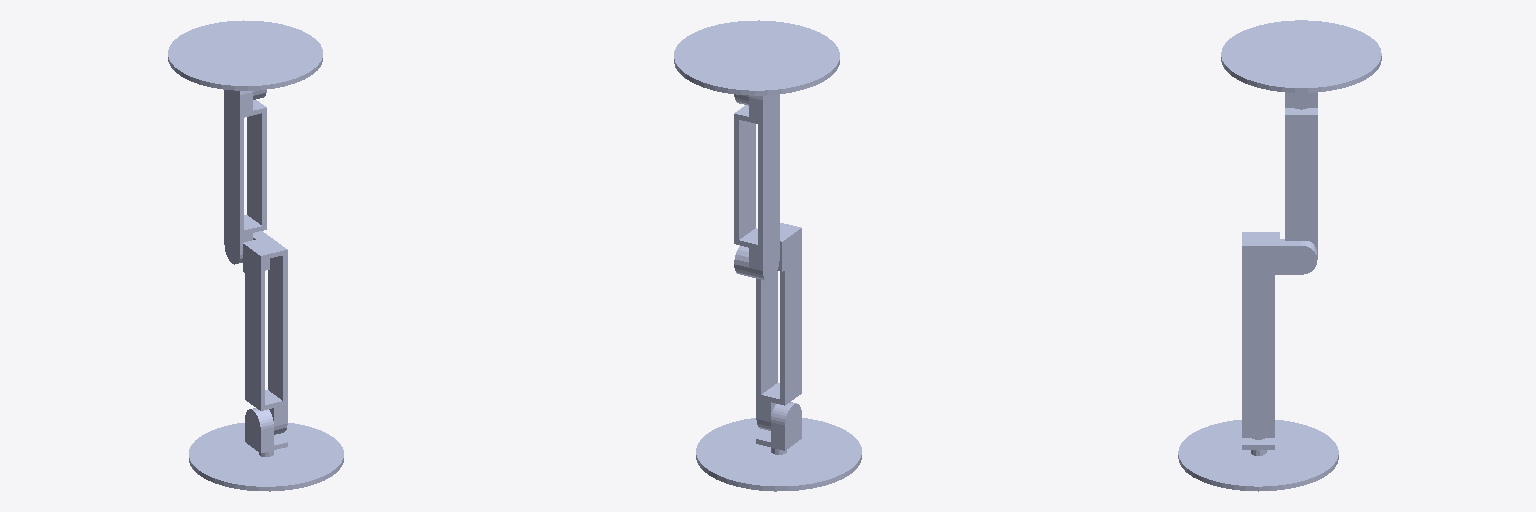
The robot description file, URDF, robot "Severus":
<?xml version="1.0" encoding="utf-8"?>
<!-- This URDF was automatically created by SolidWorks to URDF Exporter! Originally created by [author] ([email redacted]) 
     Commit Version: 1.5.1-0-g916b5db  Build Version: 1.5.7152.31018
     For more information, please see http://wiki.ros.org/sw_urdf_exporter -->
<robot
  name="Severus">
  <link
    name="base_link">
    <inertial>
      <origin
        xyz="0 0.00254950495049505 6.93889390390723E-18"
        rpy="0 0 0" />
      <mass
        value="0.089240866316035" />
      <inertia
        ixx="0.000124472658151784"
        ixy="0"
        ixz="0"
        iyy="0.000248529738126238"
        iyz="-4.13590306276514E-22"
        izz="0.000124472658151784" />
    </inertial>
    <visual>
      <origin
        xyz="0 0 0"
        rpy="0 0 0" />
      <geometry>
        <mesh
          filename="package://Severus/meshes/base_link.STL" />
      </geometry>
      <material
        name="">
        <color
          rgba="0.792156862745098 0.819607843137255 0.933333333333333 1" />
      </material>
    </visual>
    <collision>
      <origin
        xyz="0 0 0"
        rpy="0 0 0" />
      <geometry>
        <mesh
          filename="package://Severus/meshes/base_link.STL" />
      </geometry>
    </collision>
  </link>
  <link
    name="Link_11">
    <inertial>
      <origin
        xyz="-0.00544885570783534 0.0207646350841081 -8.06800064006279E-19"
        rpy="0 0 0" />
      <mass
        value="0.0196850105367549" />
      <inertia
        ixx="4.09990655058184E-06"
        ixy="5.68717463137068E-07"
        ixz="3.82004647330432E-24"
        iyy="2.16121564980124E-06"
        iyz="-3.37216020632057E-22"
        izz="3.6148599812894E-06" />
    </inertial>
    <visual>
      <origin
        xyz="0 0 0"
        rpy="0 0 0" />
      <geometry>
        <mesh
          filename="package://Severus/meshes/Link_11.STL" />
      </geometry>
      <material
        name="">
        <color
          rgba="0.792156862745098 0.819607843137255 0.933333333333333 1" />
      </material>
    </visual>
    <collision>
      <origin
        xyz="0 0 0"
        rpy="0 0 0" />
      <geometry>
        <mesh
          filename="package://Severus/meshes/Link_11.STL" />
      </geometry>
    </collision>
  </link>
  <joint
    name="Joint_11"
    type="continuous">
    <origin
      xyz="0 0 0.01"
      rpy="1.5708 0 0" />
    <parent
      link="base_link" />
    <child
      link="Link_11" />
    <axis
      xyz="0 1 0" />
  </joint>
  <link
    name="Link_12">
    <inertial>
      <origin
        xyz="0.00235471782377051 0.102740932943639 -0.00686923988626232"
        rpy="0 0 0" />
      <mass
        value="0.0911028752058656" />
      <inertia
        ixx="0.000411099958915835"
        ixy="3.38393768266908E-06"
        ixz="2.39495619668546E-06"
        iyy="3.25991345832866E-05"
        iyz="4.20131038837999E-05"
        izz="0.00039869764677922" />
    </inertial>
    <visual>
      <origin
        xyz="0 0 0"
        rpy="0 0 0" />
      <geometry>
        <mesh
          filename="package://Severus/meshes/Link_12.STL" />
      </geometry>
      <material
        name="">
        <color
          rgba="0.792156862745098 0.819607843137255 0.933333333333333 1" />
      </material>
    </visual>
    <collision>
      <origin
        xyz="0 0 0"
        rpy="0 0 0" />
      <geometry>
        <mesh
          filename="package://Severus/meshes/Link_12.STL" />
      </geometry>
    </collision>
  </link>
  <joint
    name="Joint_12"
    type="continuous">
    <origin
      xyz="0 0.03 0"
      rpy="0 0 0" />
    <parent
      link="Link_11" />
    <child
      link="Link_12" />
    <axis
      xyz="1 0 0" />
  </joint>
  <link
    name="Link_13">
    <inertial>
      <origin
        xyz="-0.00291458130465664 -0.085 -6.93889390390723E-18"
        rpy="0 0 0" />
      <mass
        value="0.0736028752058656" />
      <inertia
        ixx="0.000274223596823039"
        ixy="9.7609573942794E-21"
        ixz="3.2792743371176E-21"
        iyy="1.32163868307615E-05"
        iyz="-1.40620704134015E-20"
        izz="0.00027679716019314" />
    </inertial>
    <visual>
      <origin
        xyz="0 0 0"
        rpy="0 0 0" />
      <geometry>
        <mesh
          filename="package://Severus/meshes/Link_13.STL" />
      </geometry>
      <material
        name="">
        <color
          rgba="0.792156862745098 0.819607843137255 0.933333333333333 1" />
      </material>
    </visual>
    <collision>
      <origin
        xyz="0 0 0"
        rpy="0 0 0" />
      <geometry>
        <mesh
          filename="package://Severus/meshes/Link_13.STL" />
      </geometry>
    </collision>
  </link>
  <joint
    name="Joint_13"
    type="continuous">
    <origin
      xyz="0 0.17 -0.04"
      rpy="3.1416 0 0" />
    <parent
      link="Link_12" />
    <child
      link="Link_13" />
    <axis
      xyz="1 0 0" />
  </joint>
  <link
    name="Link_14">
    <inertial>
      <origin
        xyz="0.000960612583321093 -0.0282365920434951 -6.93889390390723E-18"
        rpy="0 0 0" />
      <mass
        value="0.111658730985146" />
      <inertia
        ixx="0.000137584245329062"
        ixy="-2.60680394422135E-06"
        ixz="1.13991510372147E-23"
        iyy="0.000251797665265952"
        iyz="-4.0271986878171E-21"
        izz="0.00013758061122721" />
    </inertial>
    <visual>
      <origin
        xyz="0 0 0"
        rpy="0 0 0" />
      <geometry>
        <mesh
          filename="package://Severus/meshes/Link_14.STL" />
      </geometry>
      <material
        name="">
        <color
          rgba="0.792156862745098 0.819607843137255 0.933333333333333 1" />
      </material>
    </visual>
    <collision>
      <origin
        xyz="0 0 0"
        rpy="0 0 0" />
      <geometry>
        <mesh
          filename="package://Severus/meshes/Link_14.STL" />
      </geometry>
    </collision>
  </link>
  <joint
    name="Joint_14"
    type="continuous">
    <origin
      xyz="0 -0.17 0"
      rpy="0 0 0" />
    <parent
      link="Link_13" />
    <child
      link="Link_14" />
    <axis
      xyz="1 0 0" />
  </joint>
</robot>

--- Facts derived from the render (not from the file) ---
3 views of the same robot in one strip: view 1: azimuth 30°, elevation 25°; view 2: azimuth 150°, elevation 25°; view 3: azimuth 270°, elevation 25° (orthographic).
Model Severus with 5 links and 4 joints (4 continuous), rooted at base_link, posed every joint at zero.
Links seen in each view (by area): view 1: Link_14, base_link, Link_12, Link_13, Link_11; view 2: Link_14, base_link, Link_13, Link_12, Link_11; view 3: Link_14, base_link, Link_12, Link_13.
Link boxes in pixels (x1,y1,x2,y2): Link_14: (168,20,322,99); base_link: (189,423,343,491); Link_12: (243,231,287,434); Link_13: (224,90,266,264); Link_11: (245,408,287,452); Link_14: (674,20,839,105); base_link: (696,418,861,491); Link_13: (734,94,779,280); Link_12: (734,223,801,430); Link_11: (756,402,801,450); Link_14: (1221,20,1381,109); base_link: (1178,420,1338,491); Link_12: (1242,232,1317,439); Link_13: (1285,95,1317,252).
Bounding box of the posed robot: 0.15 × 0.19 × 0.415 m (x, y, z).
5 mesh visuals loaded from 5 distinct referenced files (5 binary STL).
